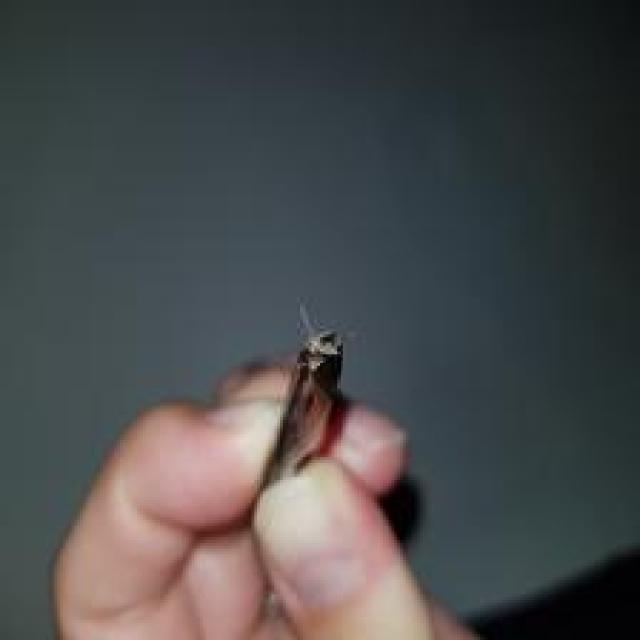Culex: (256, 300, 347, 494)
